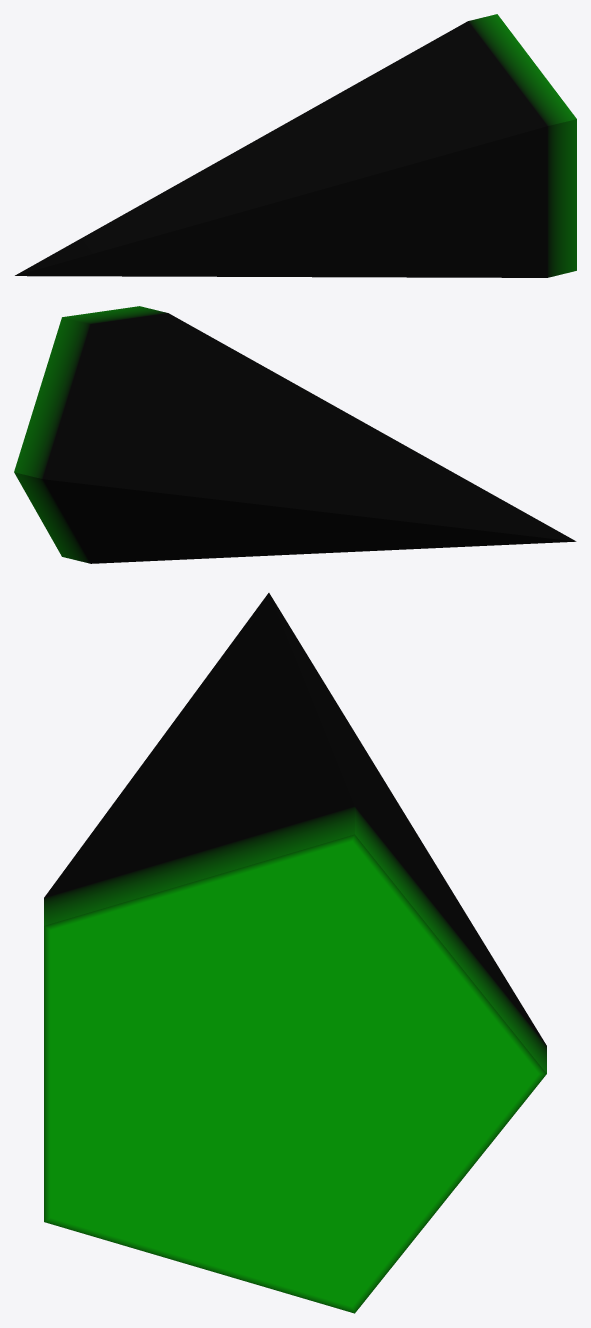
File: HornTip.fbx
3 views of the same model, one above another, from view 1: azimuth 30°, elevation 25°; view 2: azimuth 150°, elevation 25°; view 3: azimuth 270°, elevation 25° (orthographic). The views are drawn at different scales.
Visible parts, largest first — view 1: HornTip; view 2: HornTip; view 3: HornTip.
Boxes of the visible parts, x1,y1,x2,y2 form: HornTip: (15,14,576,277); HornTip: (14,306,576,563); HornTip: (44,593,546,1313).
Bounding box in the file's own units: 32.8 × 15.22 × 14.47.
